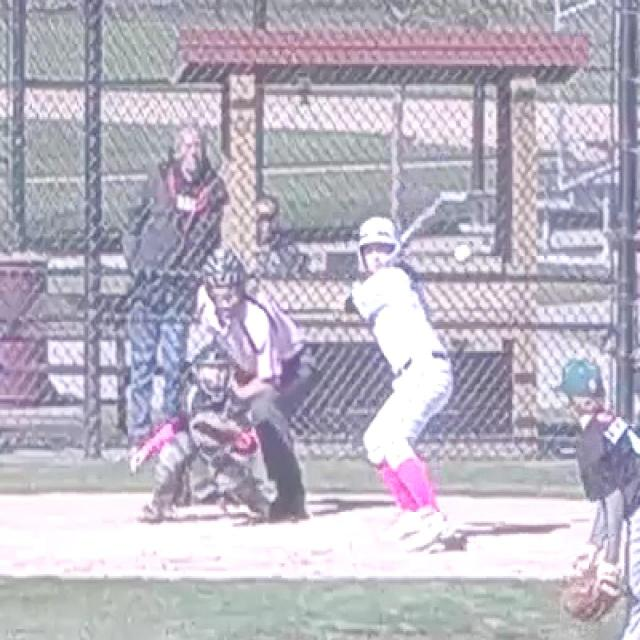baseball: (455, 246, 469, 262)
